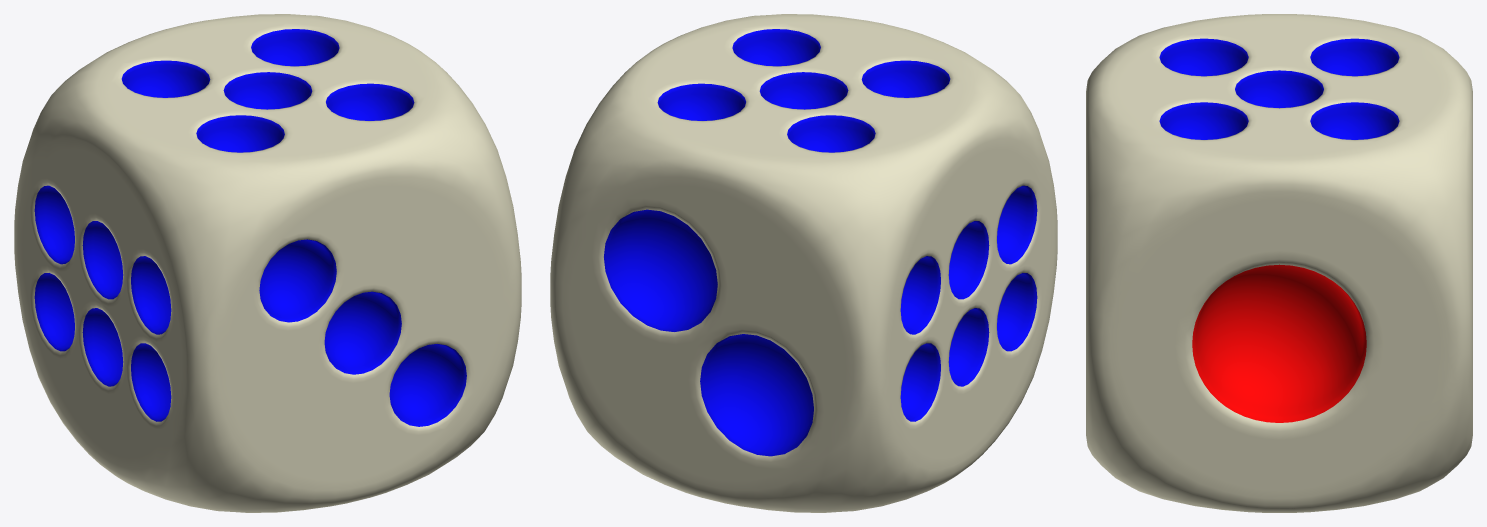
3 views of the same model, side by side, from view 1: azimuth 30°, elevation 25°; view 2: azimuth 150°, elevation 25°; view 3: azimuth 270°, elevation 25° (orthographic).
Visible parts, largest first — view 1: Rectangle003.001; view 2: Rectangle003.001; view 3: Rectangle003.001.
Boxes of the visible parts, x1,y1,x2,y2 form: Rectangle003.001: [14, 14, 521, 512]; Rectangle003.001: [550, 14, 1057, 512]; Rectangle003.001: [1086, 14, 1472, 512].
Size of the model in its own units: 0.5 by 0.5 by 0.5.
